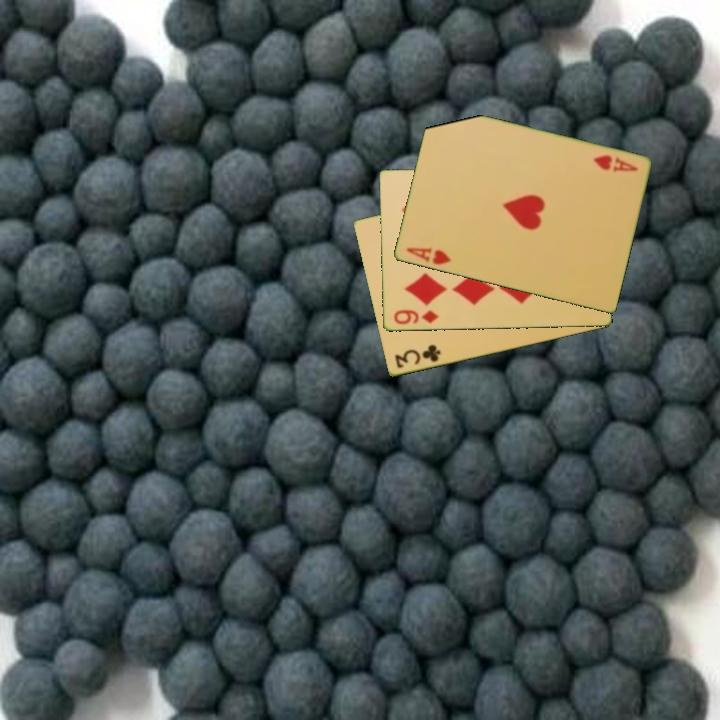3c: (391, 341, 443, 371)
9d: (390, 306, 441, 328)
Ah: (403, 244, 454, 268), (590, 151, 641, 175)
